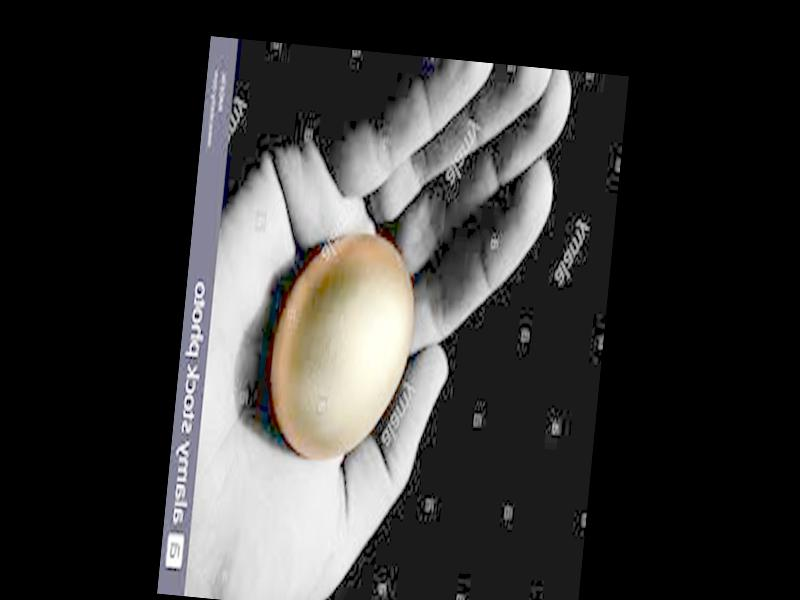Eggs: (266, 225, 420, 465)
